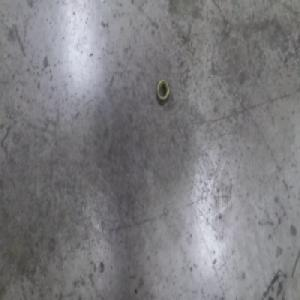Nut: (156, 77, 170, 106)
